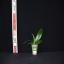leaf: (35, 29, 42, 42), (23, 40, 34, 44), (31, 34, 35, 43), (35, 40, 42, 44), (28, 42, 33, 46), (35, 43, 40, 45)
